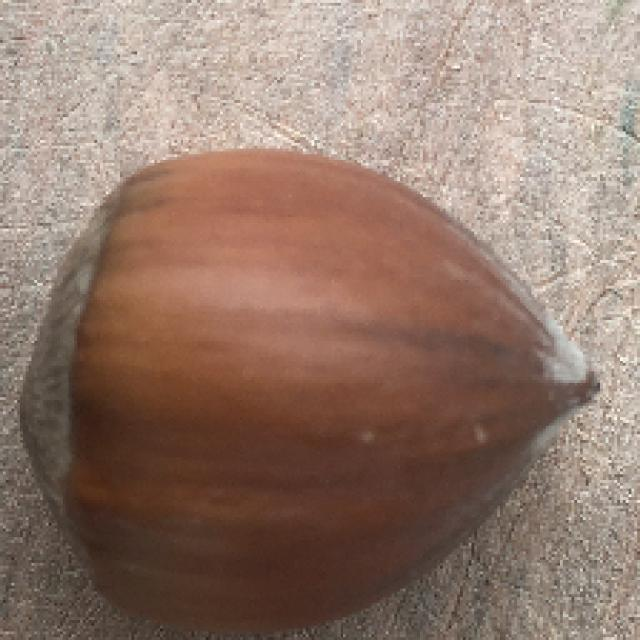qualityHazelnut: (28, 152, 602, 636)
